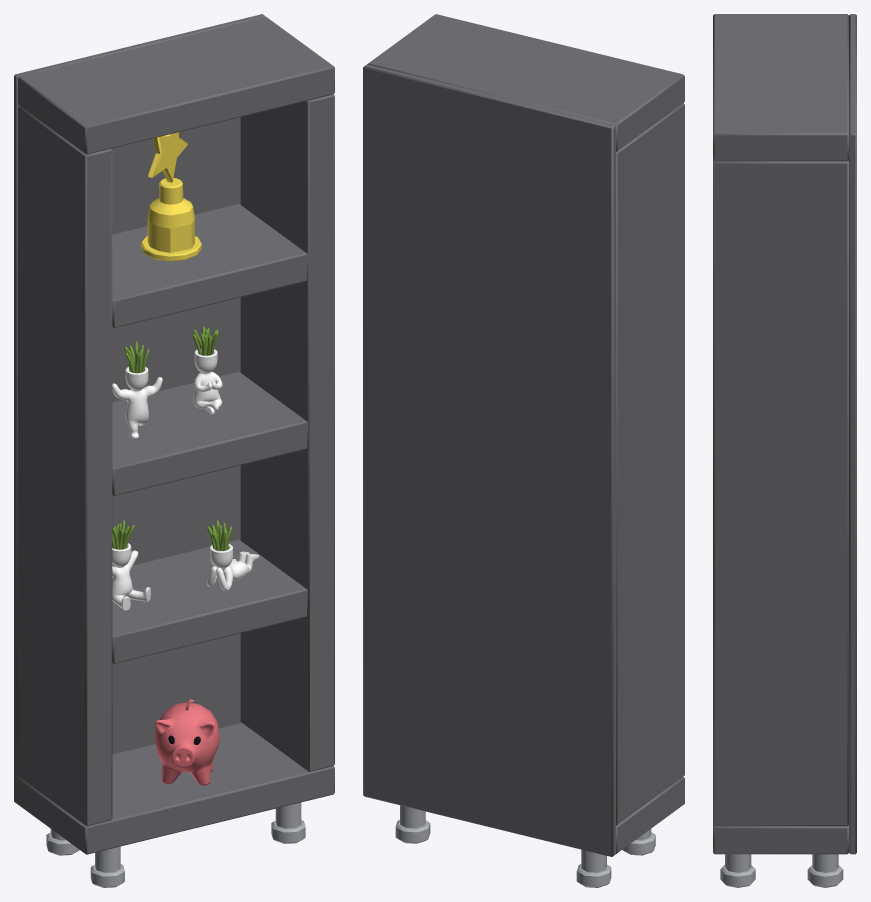
Rendered from Shelving_3.fbx.
3 views of the same model, side by side, from view 1: azimuth 30°, elevation 25°; view 2: azimuth 150°, elevation 25°; view 3: azimuth 270°, elevation 25° (orthographic).
Visible parts, largest first — view 1: Shelving_3; view 2: Shelving_3; view 3: Shelving_3.
Part boxes in pixels (<box>): Shelving_3: <box>14,14,334,887</box>; Shelving_3: <box>363,14,684,887</box>; Shelving_3: <box>713,14,856,887</box>.
Size of the model in its own units: 0.7342 by 2.17 by 0.3699.
